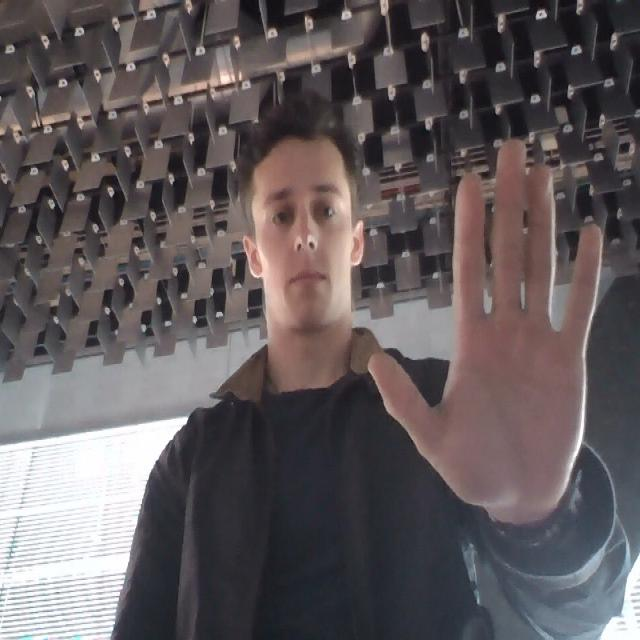backward: (380, 132, 610, 496)
